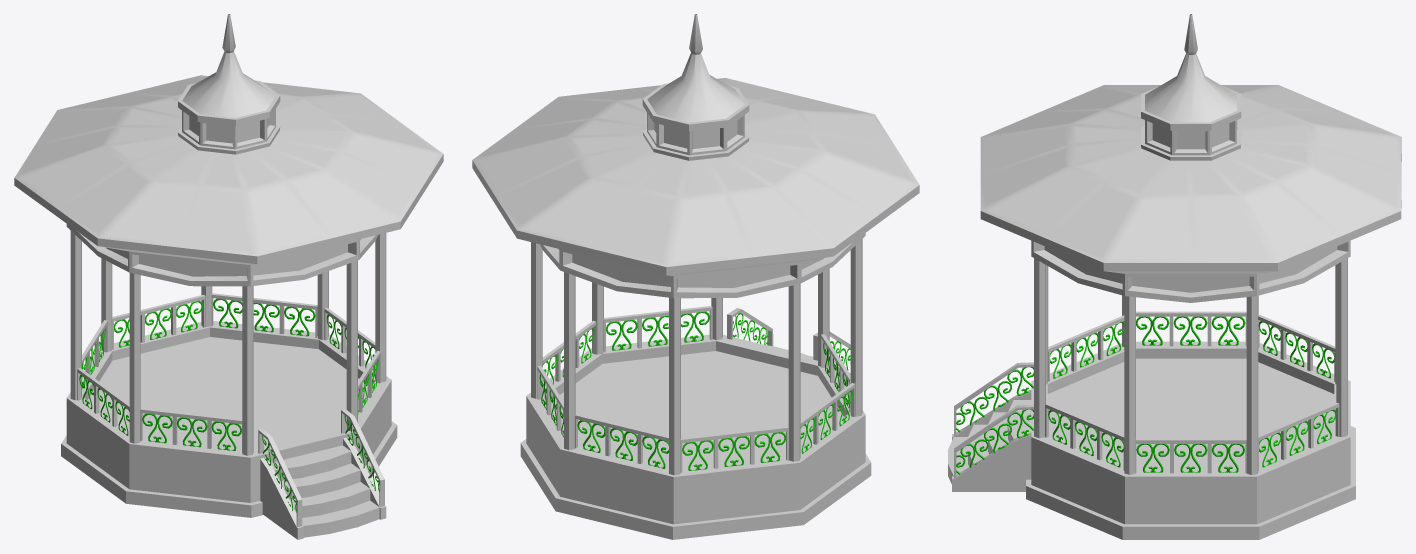
File: Bat_Canneb_3.fbx
3 renders of one model, left to right at view 1: azimuth 30°, elevation 25°; view 2: azimuth 150°, elevation 25°; view 3: azimuth 270°, elevation 25°, orthographic. The views are drawn at different scales.
Parts seen in each view (by area): view 1: Bat_Canneb_3; view 2: Bat_Canneb_3; view 3: Bat_Canneb_3.
Boxes of the visible parts, left/top/right/bottom form: Bat_Canneb_3: left=14, top=14, right=443, bottom=539; Bat_Canneb_3: left=472, top=14, right=919, bottom=539; Bat_Canneb_3: left=948, top=14, right=1401, bottom=539.
Size of the model in its own units: 1239 by 1478 by 1334.
